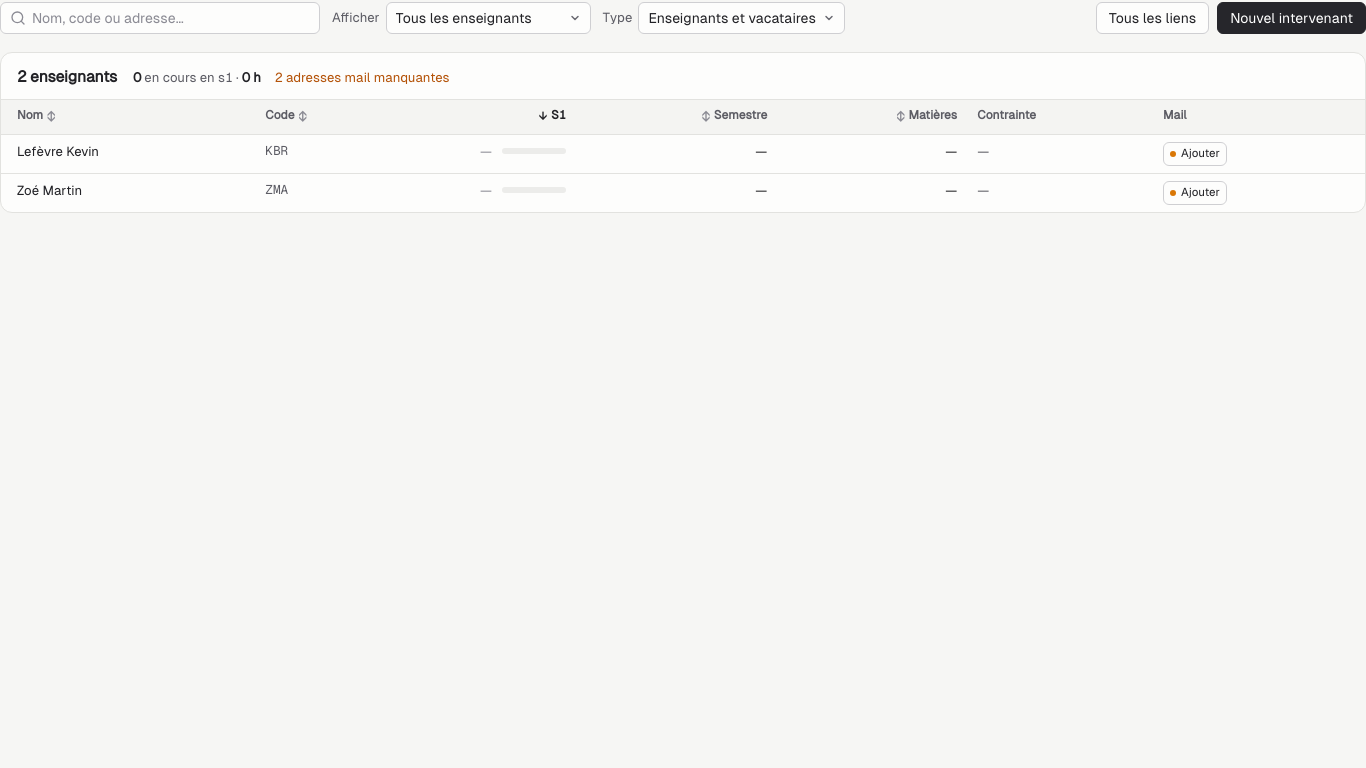
Test case: EnseignantView — Nouvel intervenant › le bouton de l'annuaire est réservé aux administrateurs
Click the button "Nouvel intervenant" at (1292, 18), box [1217, 2, 1365, 34]
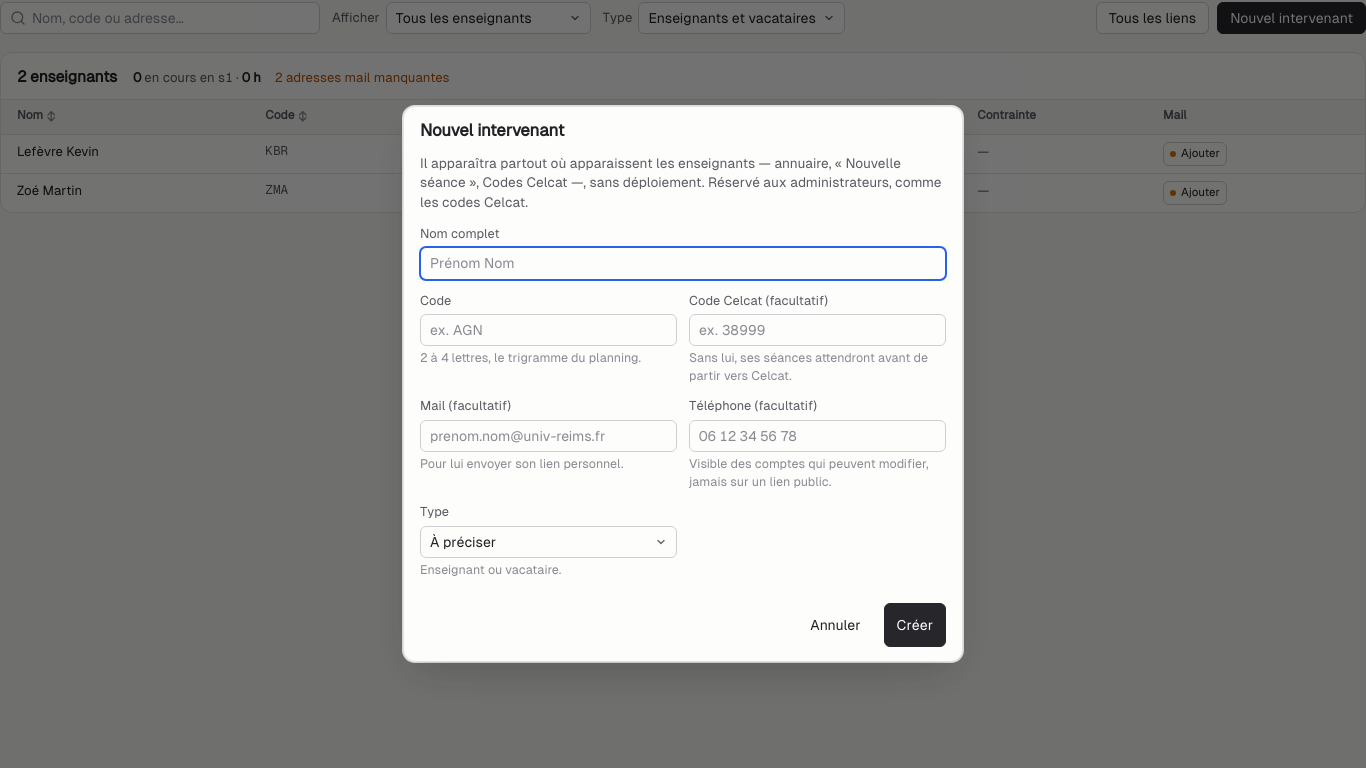
Check: the dialog "Nouvel intervenant" is shown, box [403, 106, 963, 662]
Check: the text "Réservé aux administrateurs" is shown, box [420, 155, 942, 210]
